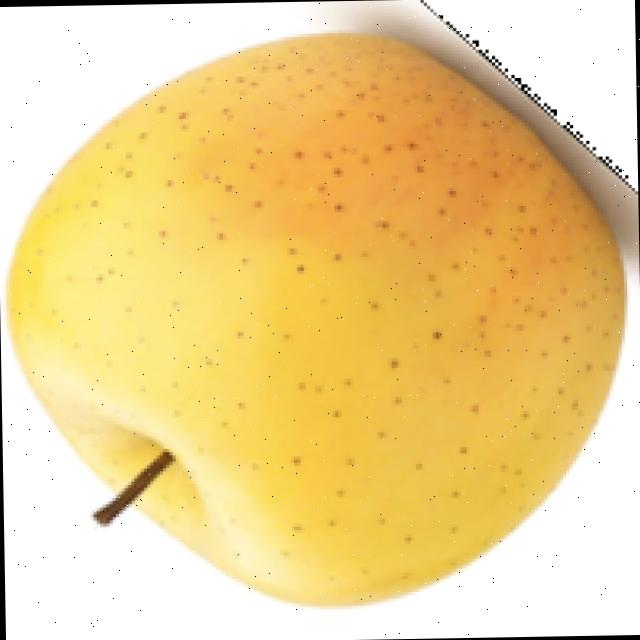apple: (2, 1, 636, 611)
